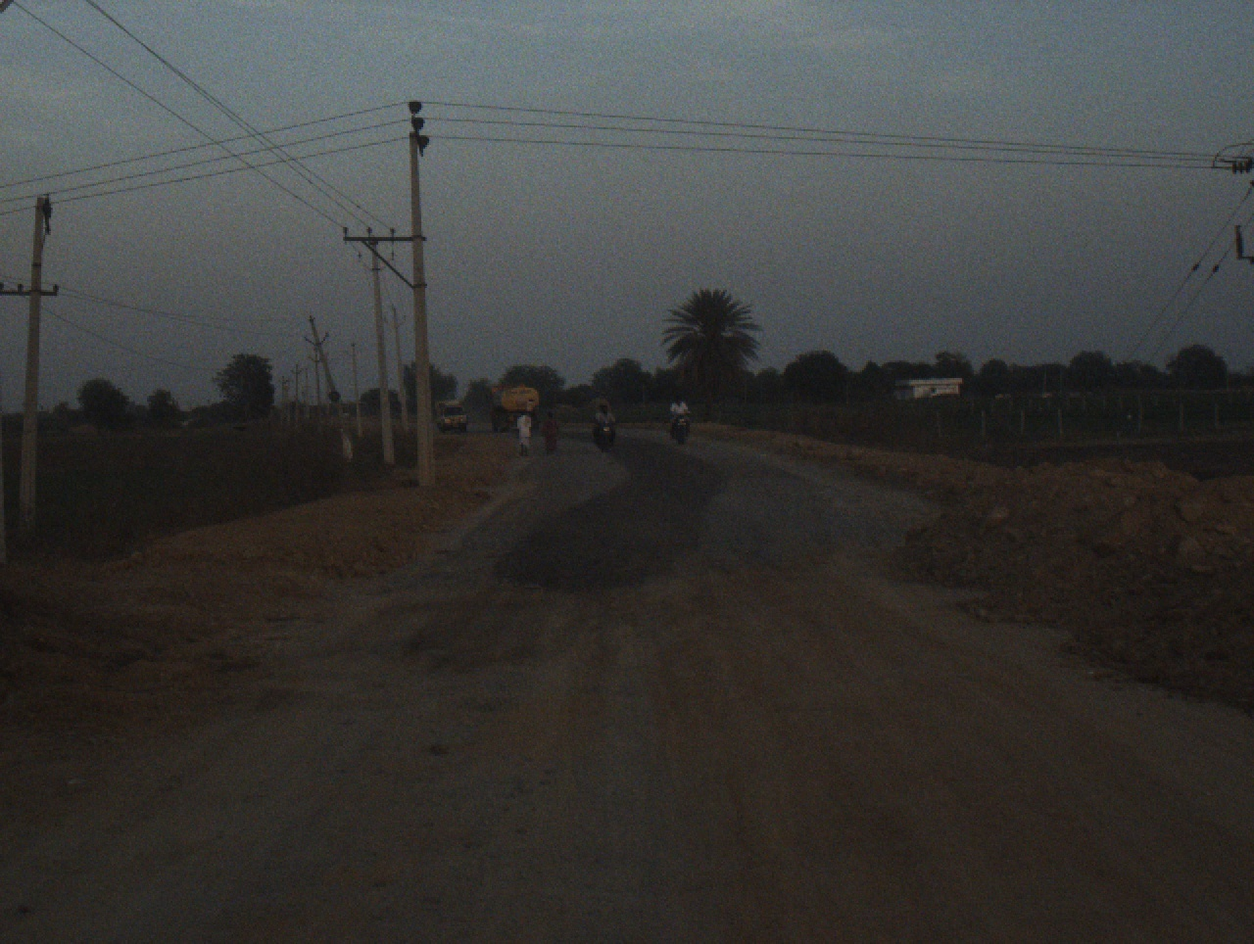motorcycle: (591, 413, 619, 454), (667, 407, 691, 445)
person: (515, 411, 534, 463), (542, 408, 561, 454)
rider: (668, 397, 696, 435), (593, 402, 614, 437)
truck: (481, 379, 545, 435), (430, 396, 472, 436)
